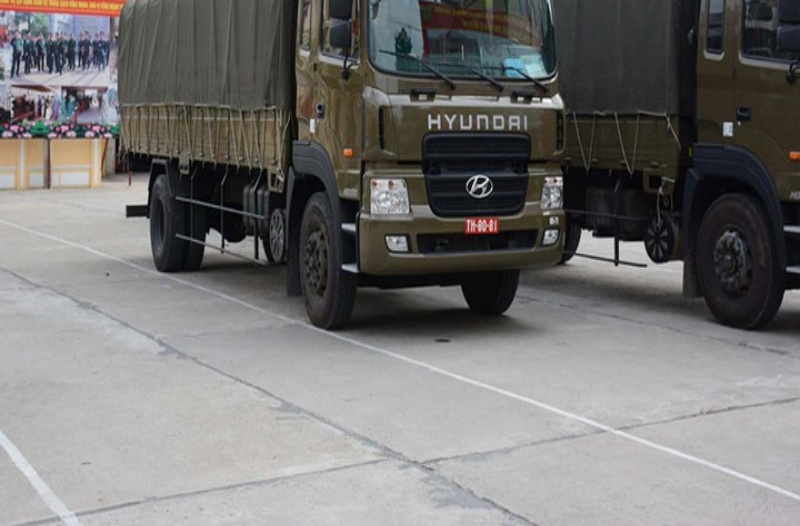plate: (465, 212, 507, 234)
